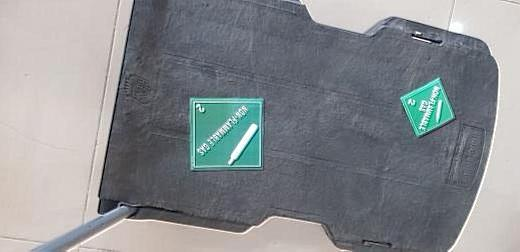non-flammable-gas: (191, 98, 264, 170), (400, 77, 455, 137)
